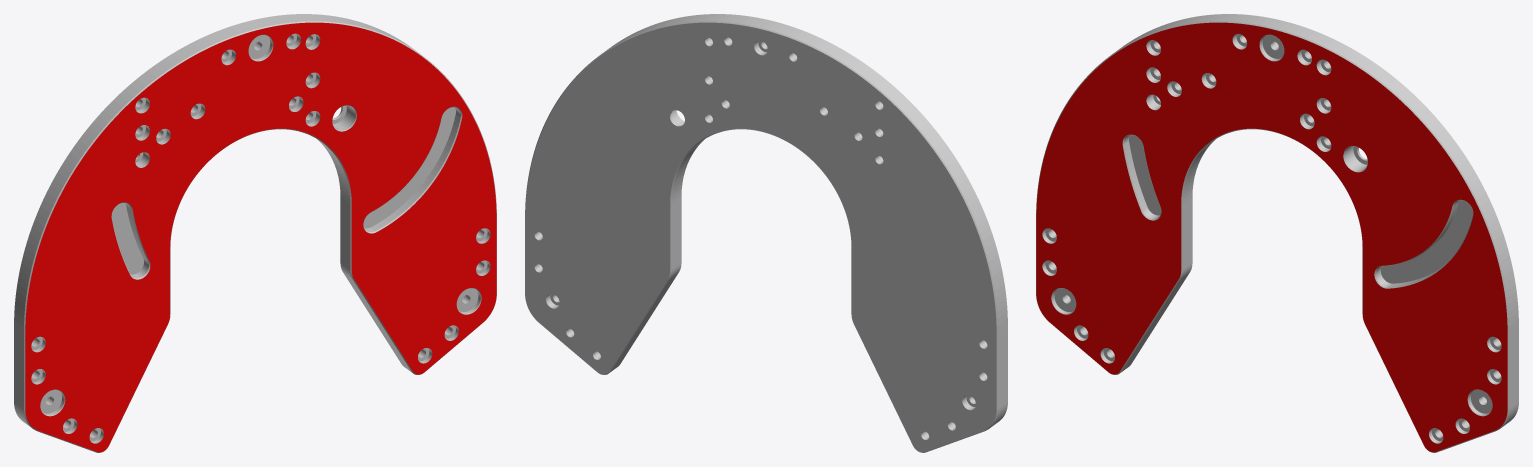
File: 15_edit_stp_17.obj
The picture shows the model from 3 angles, left to right: view 1: azimuth 30°, elevation 25°; view 2: azimuth 150°, elevation 25°; view 3: azimuth 330°, elevation 25°; orthographic projection.
Visible parts, largest first — view 1: Object1; view 2: Object1; view 3: Object1.
Part boxes in pixels (<box>): Object1: <box>14,14,496,452</box>; Object1: <box>525,14,1007,452</box>; Object1: <box>1036,14,1518,452</box>.
Size of the model in its own units: 1000 by 780 by 40.
